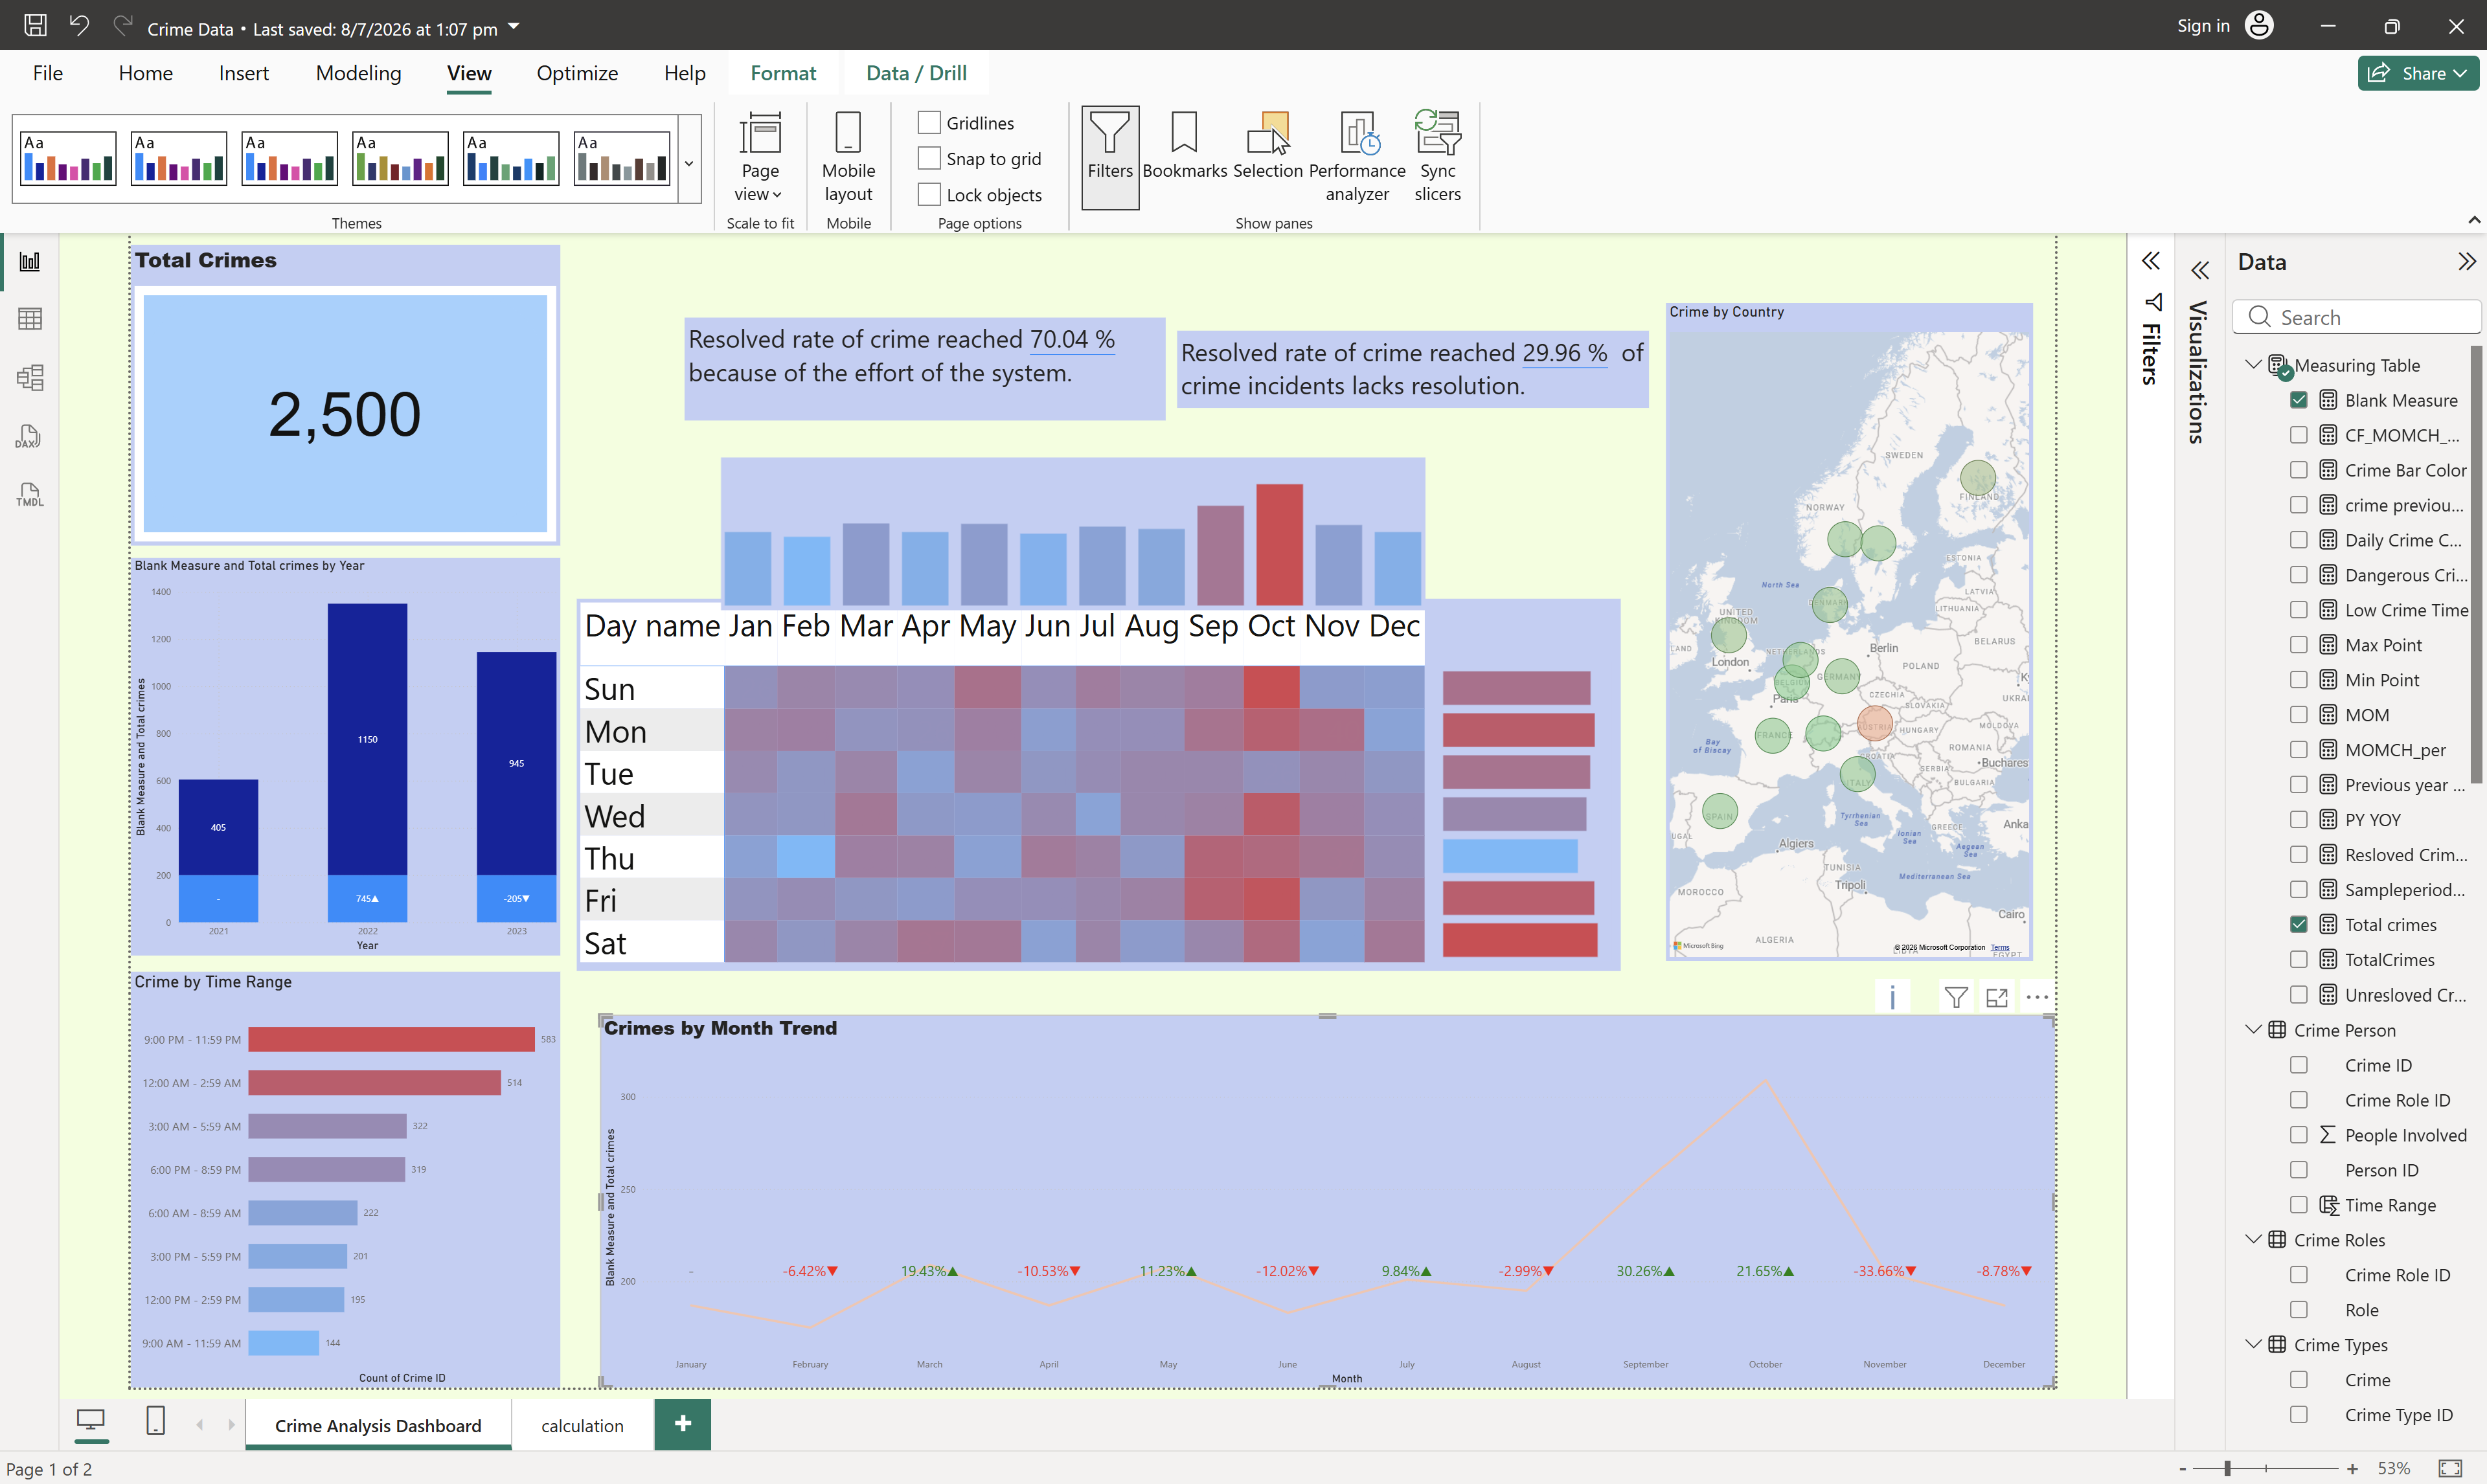

Layout of this report page (visuals, bound fields, positions):
{"tool":"powerbi","page":{"name":"Crime Analysis Dashboard","canvas":[2500,1500],"ordinal":0},"visuals":[{"type":"cardVisual","title":"Total Crimes","fields":{"Data":["Measuring Table.Total crimes"]},"box":[0,15.7,558.4,391.3],"z":0},{"type":"textbox","box":[719.6,110.1,625.2,133.7],"z":1000},{"type":"pivotTable","fields":{"Rows":["Date table.Day name"],"Columns":["Date table.Month"],"Values":["Measuring Table.Total crimes"]},"box":[580,475.7,1356.6,483.7],"z":1000,"group":"g1"},{"type":"textbox","box":[1360.5,127.8,613.4,100.3],"z":2000},{"type":"group","id":"g1","title":"Group 1","box":[580,292.3,1356.6,667.1],"z":3000},{"type":"columnChart","fields":{"Category":["Date table.Date.Variation.Date Hierarchy.Month"],"Y":["CountNonNull(Data.Resolved)"]},"box":[766.8,292.3,916.2,198.6],"z":3000,"group":"g1"},{"type":"barChart","fields":{"Y":["CountNonNull(Data.Resolved)"],"Category":["Date table.week day"]},"box":[1700.7,557.3,224.1,389.3],"z":4000,"group":"g1"},{"type":"lineChart","title":"Crimes by Month Trend ","fields":{"Category":["Date table.Date.Variation.Date Hierarchy.Month"],"Y":["Measuring Table.Blank Measure","Measuring Table.Total crimes"]},"box":[609.5,1014.5,1891.5,486.4],"z":4000},{"type":"columnChart","fields":{"Category":["Date table.Date.Variation.Date Hierarchy.Year"],"Y":["Measuring Table.Blank Measure","Measuring Table.Total crimes"]},"box":[0,422.7,558.4,517.1],"z":5000},{"type":"clusteredBarChart","title":"Crime by Time Range","fields":{"Category":["Data.Time Range"],"Y":["CountNonNull(Data.Crime ID)"]},"box":[0,959.5,558.4,540.7],"z":6000},{"type":"map","title":"Crime by Country","fields":{"Category":["Data.Country"]},"box":[1993.6,90.4,476.7,855],"z":7000}]}

Visuals, with their boxes on the page's 2500x1500 design canvas (x1, y1, x2, y2). These are canvas units, not pixel positions in the 2487x1484 screenshot, which may show the page scaled, cropped or inside an application window:
"Total Crimes" cardVisual: locate(0, 16, 558, 407)
textbox: locate(720, 110, 1345, 244)
pivotTable - Date table.Day name x Date table.Month: locate(580, 476, 1937, 959)
textbox: locate(1360, 128, 1974, 228)
"Group 1" group: locate(580, 292, 1937, 959)
columnChart - Date table.Date.Variation.Date Hierarchy.Month x CountNonNull(Data.Resolved): locate(767, 292, 1683, 491)
barChart - CountNonNull(Data.Resolved) x Date table.week day: locate(1701, 557, 1925, 947)
"Crimes by Month Trend " lineChart: locate(610, 1014, 2501, 1501)
columnChart - Date table.Date.Variation.Date Hierarchy.Year x Measuring Table.Blank Measure: locate(0, 423, 558, 940)
"Crime by Time Range" clusteredBarChart: locate(0, 960, 558, 1500)
"Crime by Country" map: locate(1994, 90, 2470, 945)
